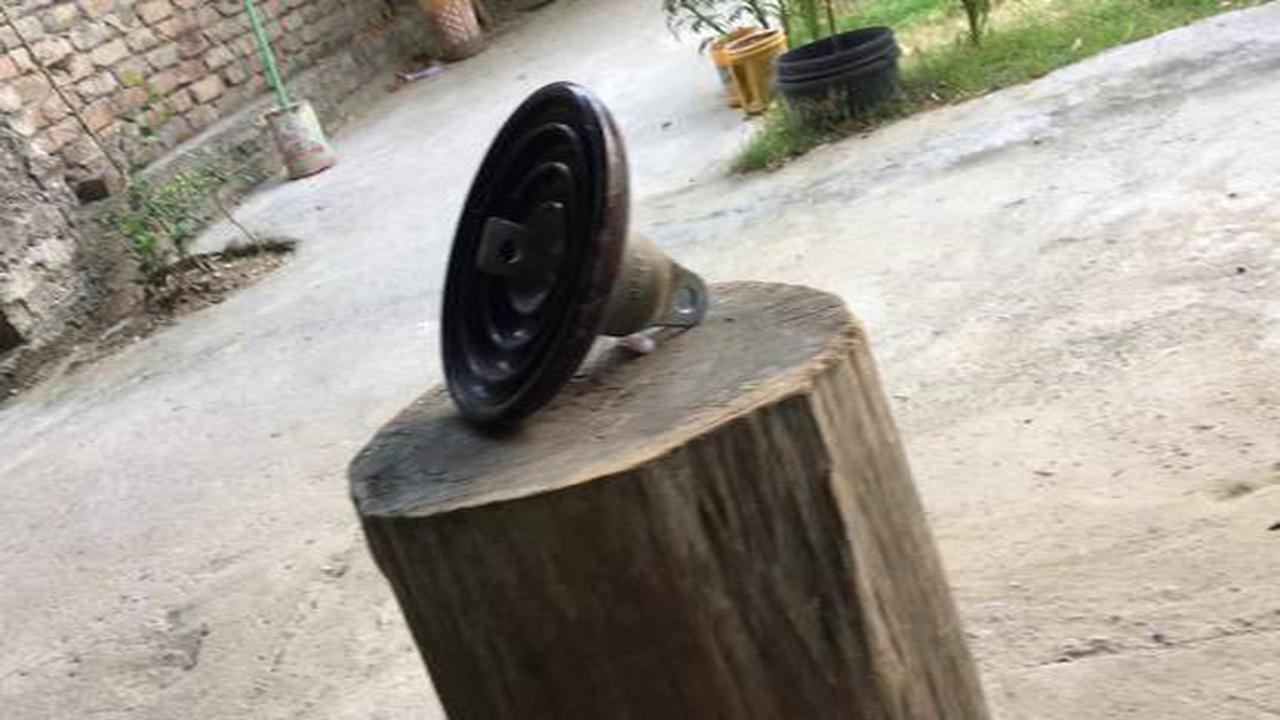insulator_disc: (434, 75, 707, 420)
